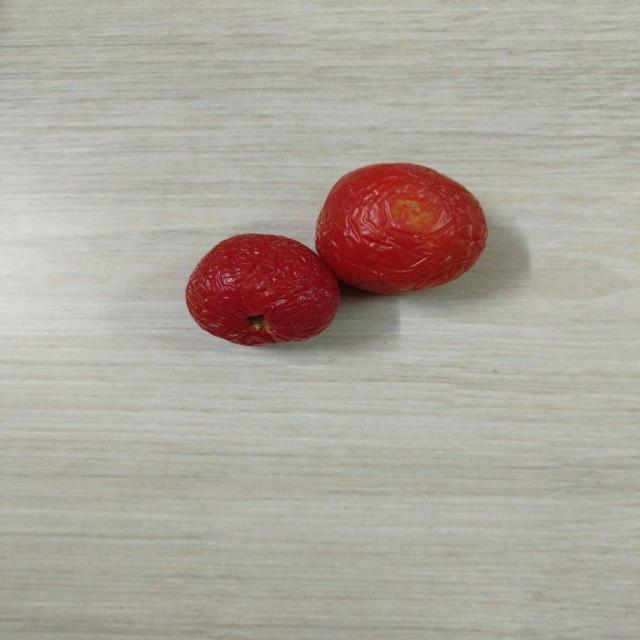overripe: (320, 160, 486, 296), (180, 227, 342, 350)
